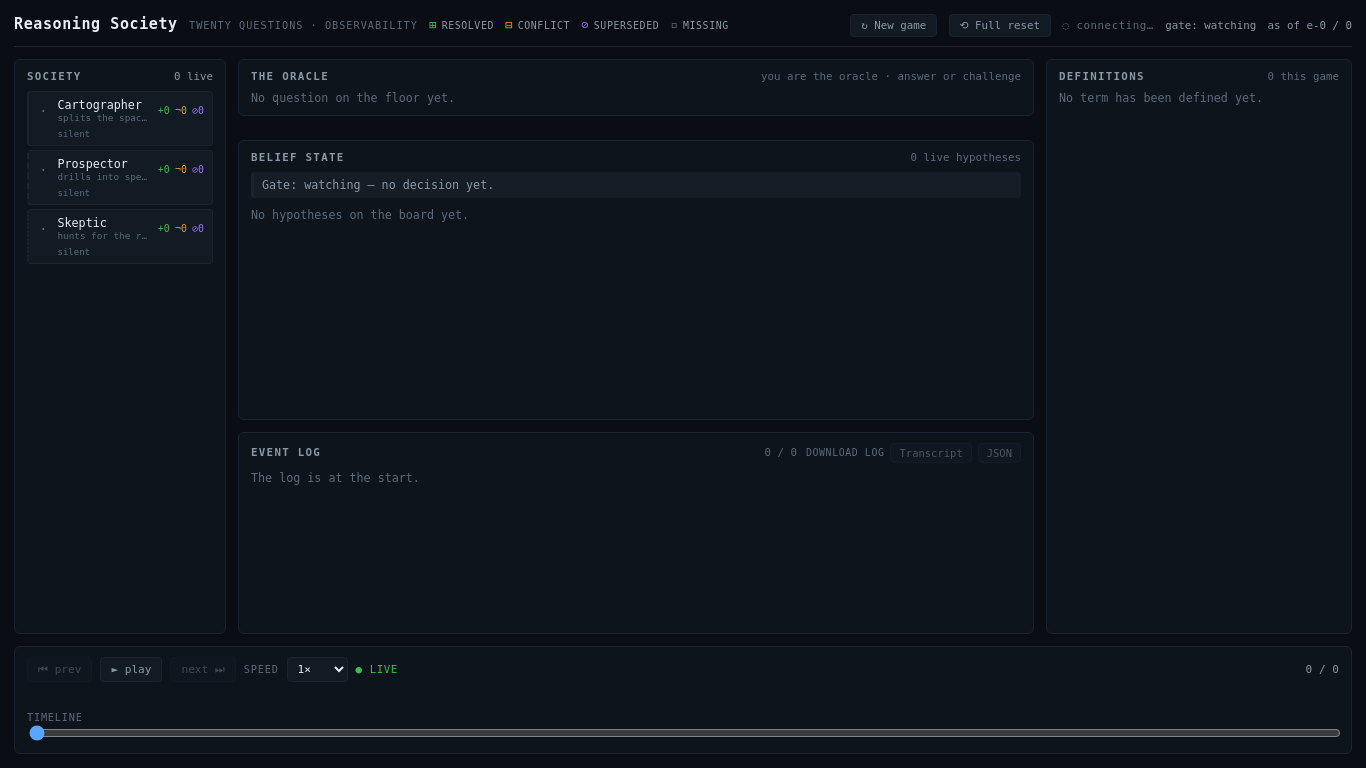
Test: App › auto-advances the playhead over time once play is pressed
The image size is (1366, 768).
Click the button "► play" at (131, 670), box left=100, top=657, right=162, bottom=682
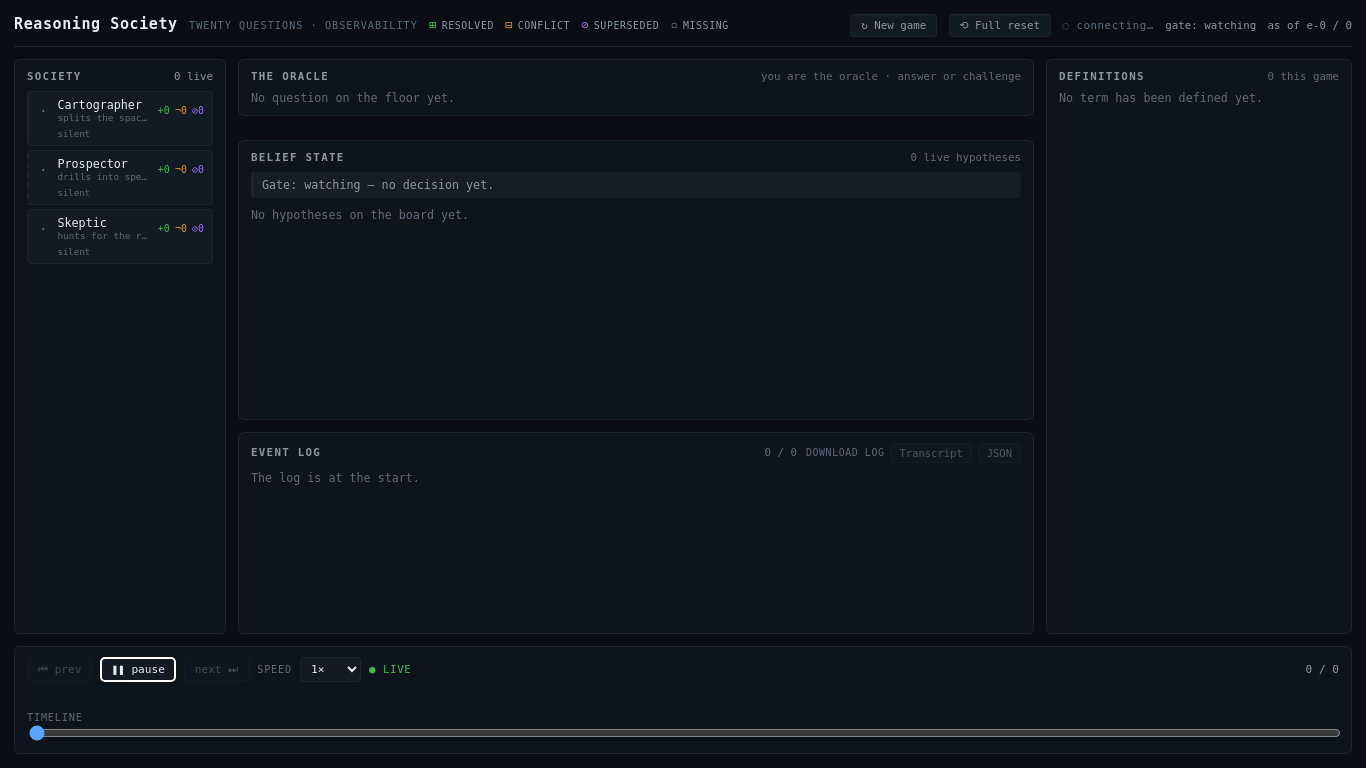
expect the button "❚❚ pause" is shown: met, box left=100, top=657, right=176, bottom=682
